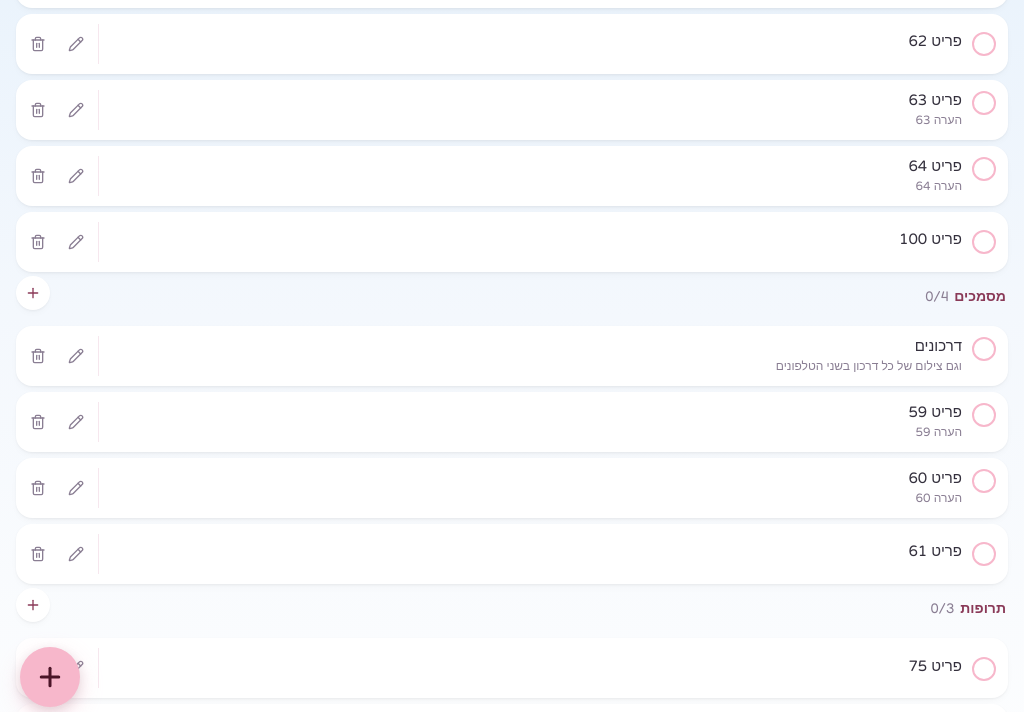
Test: an item card › opens the edit when tapped, and only the circle ticks it
Later steps or results of the test are not shown.
(page scrolled)
Click the button without text next to "וגם צילום של כל דרכון בשני הטלפונים" at (530,356), box [99,326,962,385]
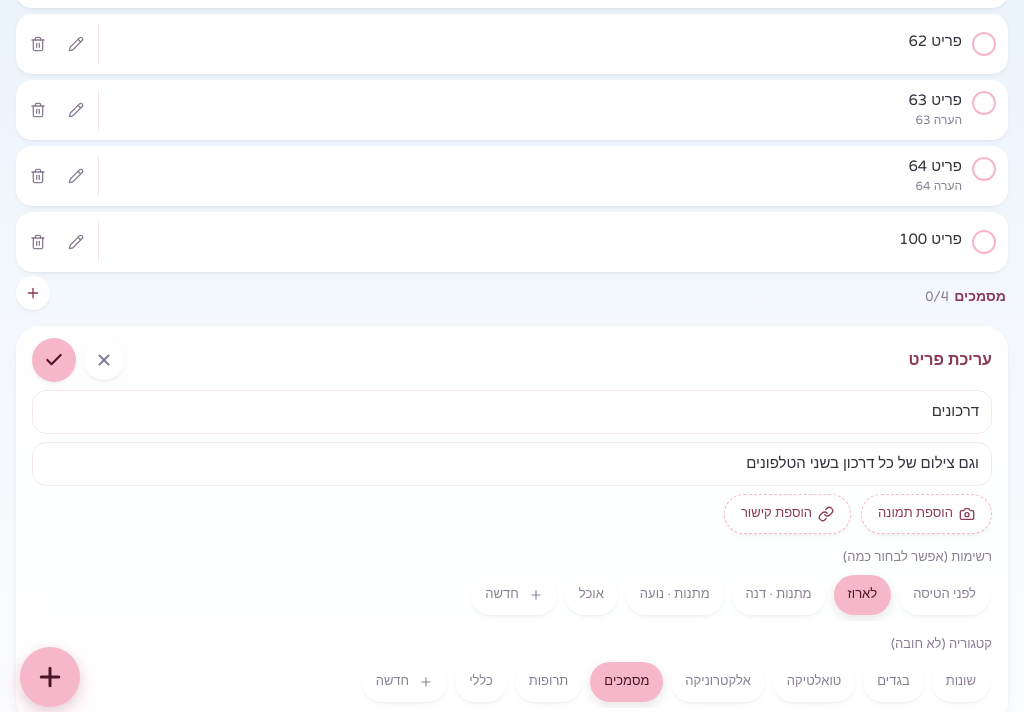
Now the field named "מה" holds "דרכונים", box [32,390,992,434]
